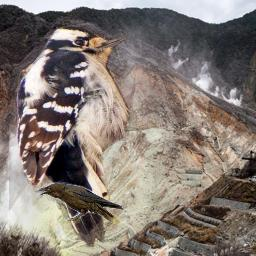Crow: (36, 181, 126, 224)
Woodpecker: (9, 22, 159, 247)
